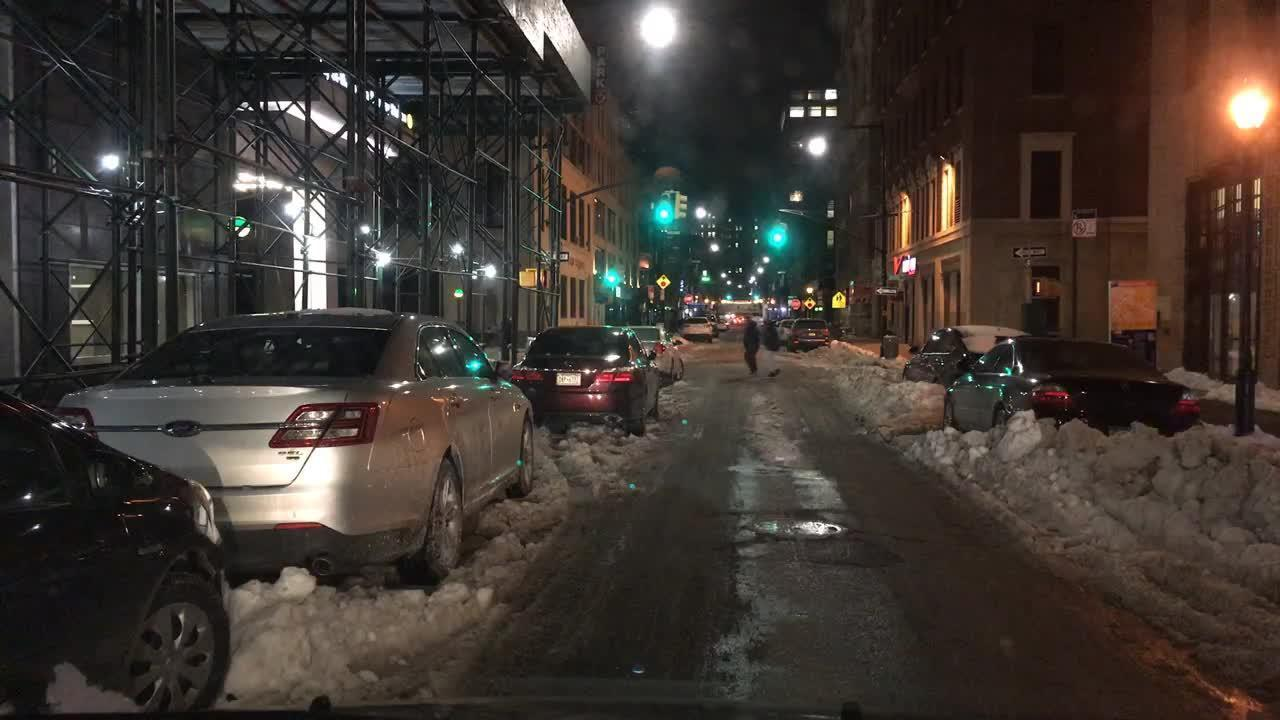ford: (163, 418, 202, 437)
